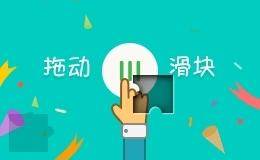target: (111, 56, 153, 94)
